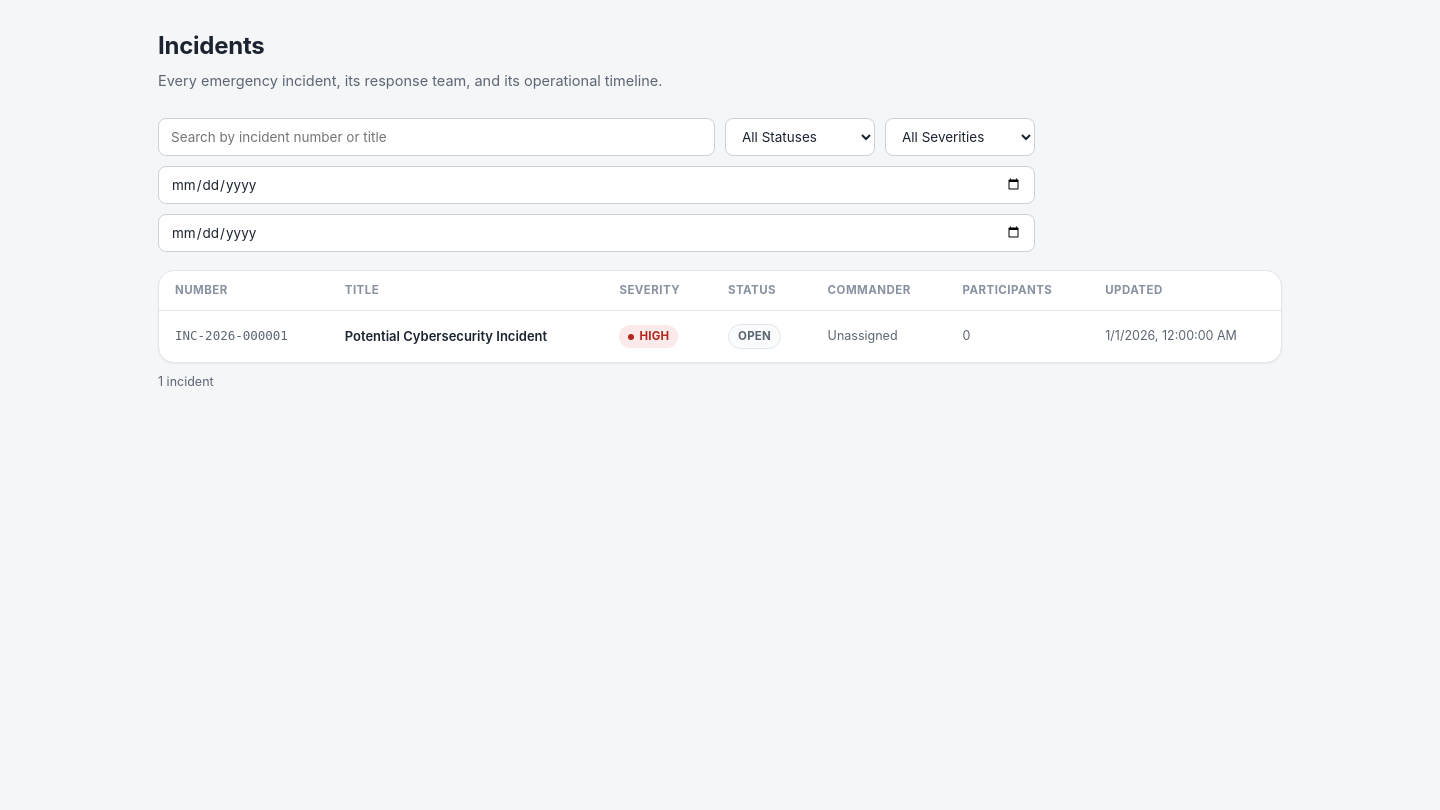
it: IncidentsPage › Command Center tab › does not show the Command Center tab for a user without incidents.command_center.read
This screenshot has width=1440, height=810.
Click the text "Potential Cybersecurity Incident" at (466, 336), box [329,310,603,362]
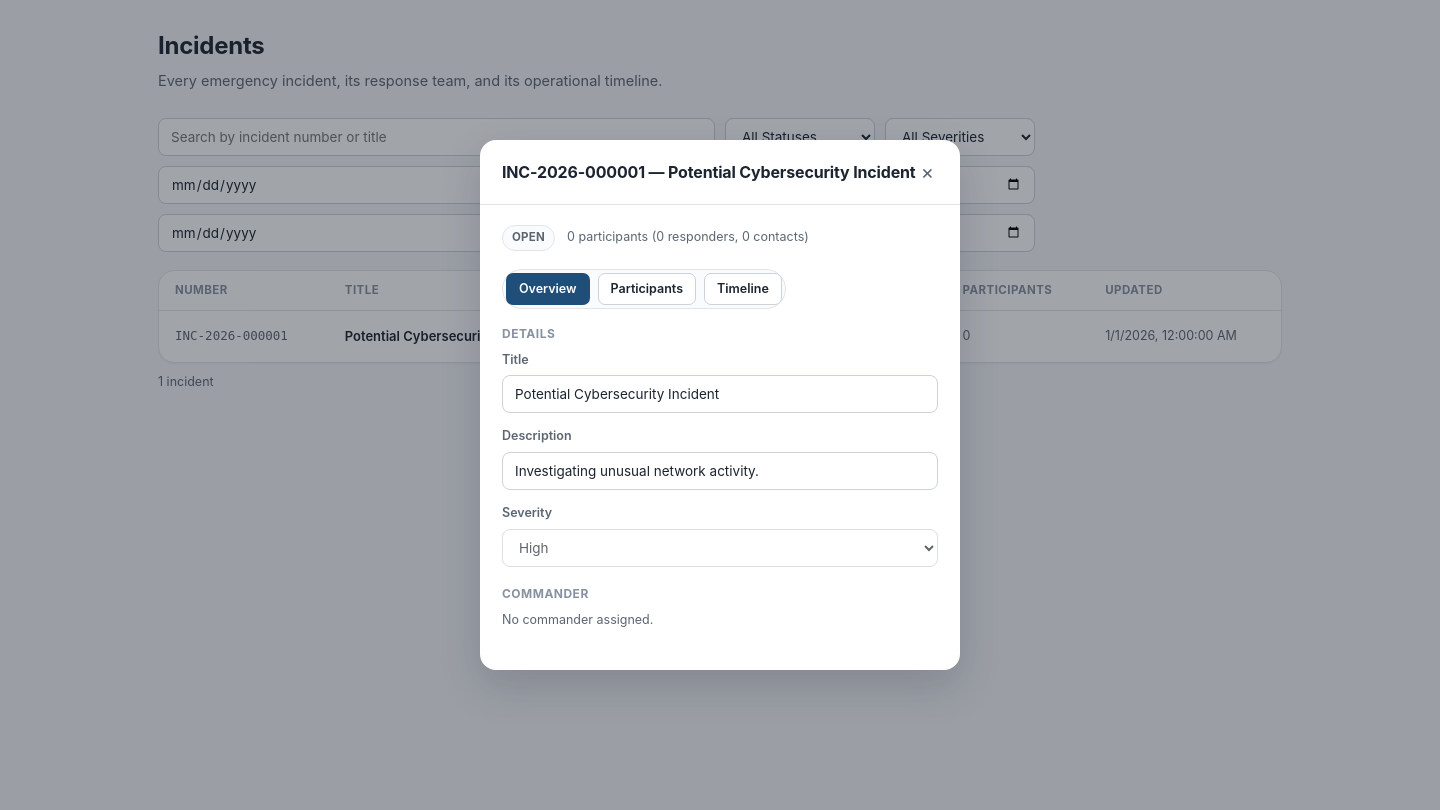
Now the button "Overview" is shown, box [506,273,590,305]
